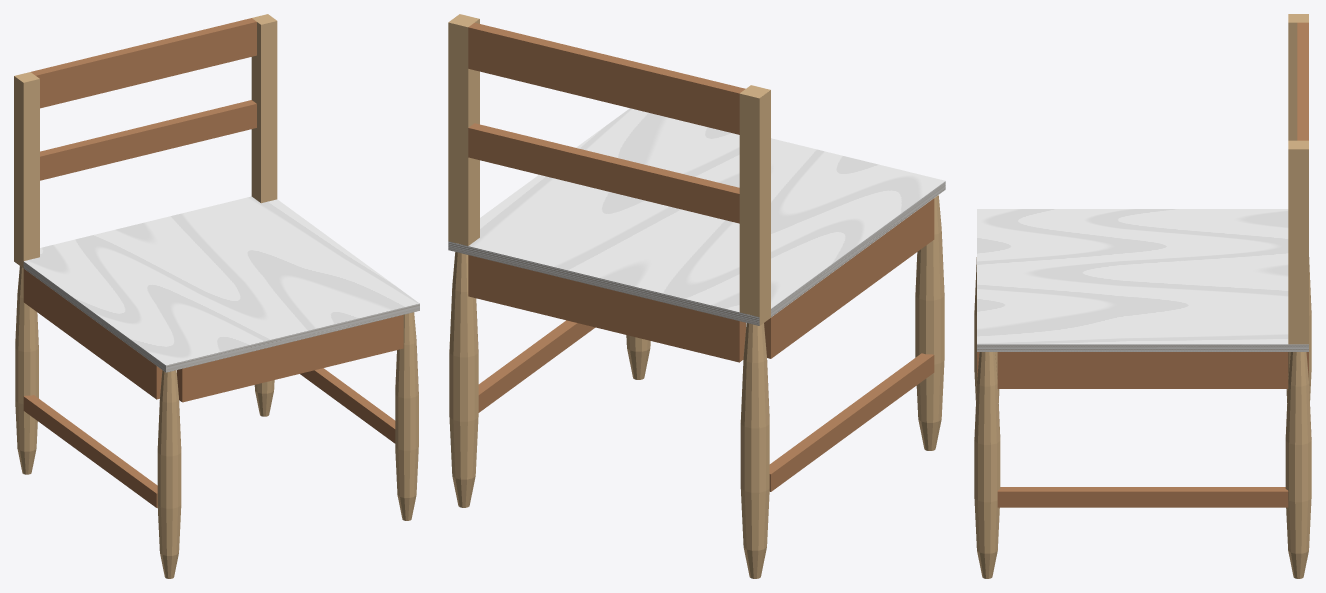
The model's file is CAL-ACC-std.glb.
The picture shows the model from 3 angles, left to right: view 1: azimuth 30°, elevation 25°; view 2: azimuth 150°, elevation 25°; view 3: azimuth 270°, elevation 25°; orthographic projection. The views are drawn at different scales.
Parts seen in each view (by area): view 1: seat:sheet:eyJtIjoicGx5Iiwic2lkZSI6ImZhY2UiLCJzZWVkIjo2LCJ2Z, back-top:pbr, leg-bl:pbr, rail-f:pbr, back-mid:pbr, leg-br:pbr, rail-l:pbr, leg-fl:pbr, leg-fr:pbr, stretcher-l:pbr, stretcher-r:pbr, seat:sheet:eyJtIjoicGx5Iiwic2lkZSI6ImVkZ2UtZW5kIiwic2VlZCI6N (+1 smaller); view 2: seat:sheet:eyJtIjoicGx5Iiwic2lkZSI6ImZhY2UiLCJzZWVkIjo2LCJ2Z, leg-bl:pbr, back-top:pbr, leg-br:pbr, rail-b:pbr, back-mid:pbr, rail-l:pbr, leg-fl:pbr, stretcher-l:pbr, stretcher-r:pbr, seat:sheet:eyJtIjoicGx5Iiwic2lkZSI6ImVkZ2UtZW5kIiwic2VlZCI6N, seat:sheet:eyJtIjoicGx5Iiwic2lkZSI6ImVkZ2UtbG9uZyIsInNlZWQiO (+1 smaller); view 3: seat:sheet:eyJtIjoicGx5Iiwic2lkZSI6ImZhY2UiLCJzZWVkIjo2LCJ2Z, rail-r:pbr, leg-br:pbr, stretcher-r:pbr, leg-fr:pbr, seat:sheet:eyJtIjoicGx5Iiwic2lkZSI6ImVkZ2UtbG9uZyIsInNlZWQiO, leg-bl:pbr, back-top:pbr.
Boxes of the visible parts, left/top/right/bottom form: seat:sheet:eyJtIjoicGx5Iiwic2lkZSI6ImZhY2UiLCJzZWVkIjo2LCJ2Z: left=24, top=196, right=419, bottom=365; back-top:pbr: left=31, top=18, right=256, bottom=108; leg-bl:pbr: left=14, top=72, right=39, bottom=474; rail-f:pbr: left=177, top=315, right=403, bottom=402; back-mid:pbr: left=40, top=100, right=256, bottom=180; leg-br:pbr: left=251, top=14, right=277, bottom=416; rail-l:pbr: left=23, top=269, right=162, bottom=399; leg-fl:pbr: left=157, top=370, right=181, bottom=578; leg-fr:pbr: left=395, top=312, right=418, bottom=520; stretcher-l:pbr: left=23, top=395, right=157, bottom=507; stretcher-r:pbr: left=300, top=368, right=395, bottom=443; seat:sheet:eyJtIjoicGx5Iiwic2lkZSI6ImVkZ2UtZW5kIiwic2VlZCI6N: left=166, top=303, right=419, bottom=372; seat:sheet:eyJtIjoicGx5Iiwic2lkZSI6ImZhY2UiLCJzZWVkIjo2LCJ2Z: left=468, top=108, right=945, bottom=312; leg-bl:pbr: left=739, top=85, right=770, bottom=578; back-top:pbr: left=468, top=22, right=745, bottom=134; leg-br:pbr: left=448, top=14, right=479, bottom=507; rail-b:pbr: left=468, top=255, right=745, bottom=362; back-mid:pbr: left=468, top=123, right=739, bottom=223; rail-l:pbr: left=764, top=198, right=934, bottom=358; leg-fl:pbr: left=915, top=195, right=944, bottom=450; stretcher-l:pbr: left=769, top=353, right=934, bottom=491; stretcher-r:pbr: left=478, top=320, right=595, bottom=412; seat:sheet:eyJtIjoicGx5Iiwic2lkZSI6ImVkZ2UtZW5kIiwic2VlZCI6N: left=448, top=241, right=759, bottom=325; seat:sheet:eyJtIjoicGx5Iiwic2lkZSI6ImVkZ2UtbG9uZyIsInNlZWQiO: left=771, top=181, right=945, bottom=317; seat:sheet:eyJtIjoicGx5Iiwic2lkZSI6ImZhY2UiLCJzZWVkIjo2LCJ2Z: left=977, top=209, right=1288, bottom=344; rail-r:pbr: left=997, top=352, right=1288, bottom=388; leg-br:pbr: left=1285, top=140, right=1311, bottom=578; stretcher-r:pbr: left=997, top=487, right=1288, bottom=507; leg-fr:pbr: left=974, top=352, right=1000, bottom=578; seat:sheet:eyJtIjoicGx5Iiwic2lkZSI6ImVkZ2UtbG9uZyIsInNlZWQiO: left=977, top=344, right=1308, bottom=351; leg-bl:pbr: left=1286, top=14, right=1311, bottom=402; back-top:pbr: left=1297, top=22, right=1308, bottom=140.
Size of the model in its own units: 0.56 by 0.82 by 0.58.
Materials: 15 (3 with a texture image).
